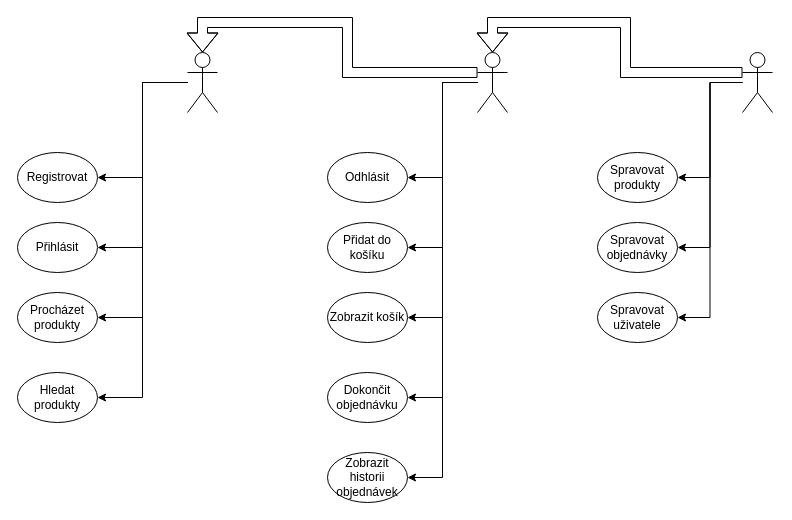
This 792x520 diagram has some shape labels left out. Here are the shapes that lost their labels. From the top down, the centre of each, then its label:
point 202,82: Nepřihlášený uživatel
point 492,82: Přihlášený uživatel
point 757,82: Admin
